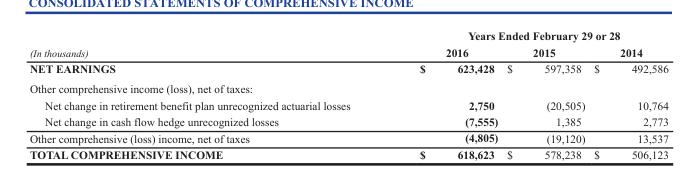table: (28, 28, 667, 160)
table column: (28, 28, 384, 160), (384, 28, 501, 160), (501, 28, 588, 160), (588, 28, 667, 160)
table column header: (28, 28, 667, 59)
table projected row header: (28, 78, 667, 96)
table row: (28, 59, 667, 78), (28, 78, 667, 96), (28, 96, 667, 113), (28, 43, 667, 59), (28, 113, 667, 129), (28, 129, 667, 145), (28, 28, 667, 43), (28, 145, 667, 160)
table spanning cell: (28, 28, 384, 59), (384, 28, 667, 43)
